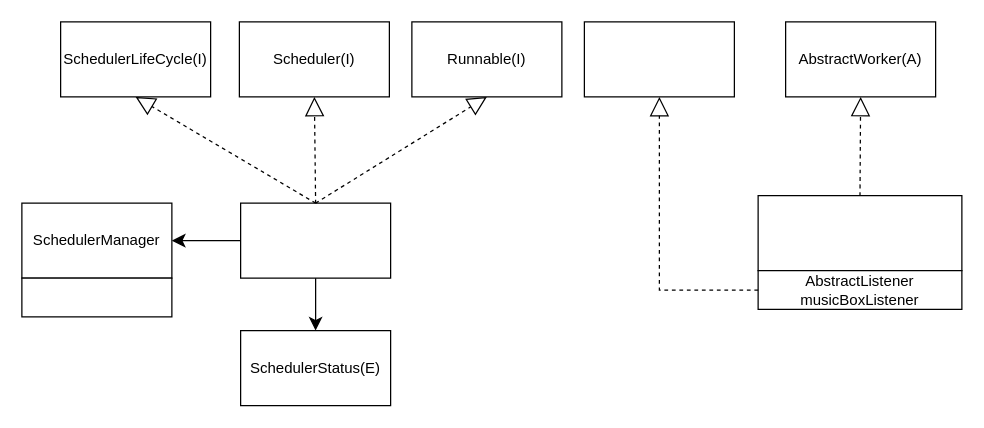
This 984x428 diagram has some shape labels left out. The box of each missing label's shape, as (x1, y1, x2, y2) in pixels:
AbstractListener(A): (583, 21, 734, 97)
Map SchedulerPool: (21, 277, 172, 317)
MusicBoxWorker: (757, 194, 962, 271)
PeriodicScheduelr: (239, 202, 391, 278)
